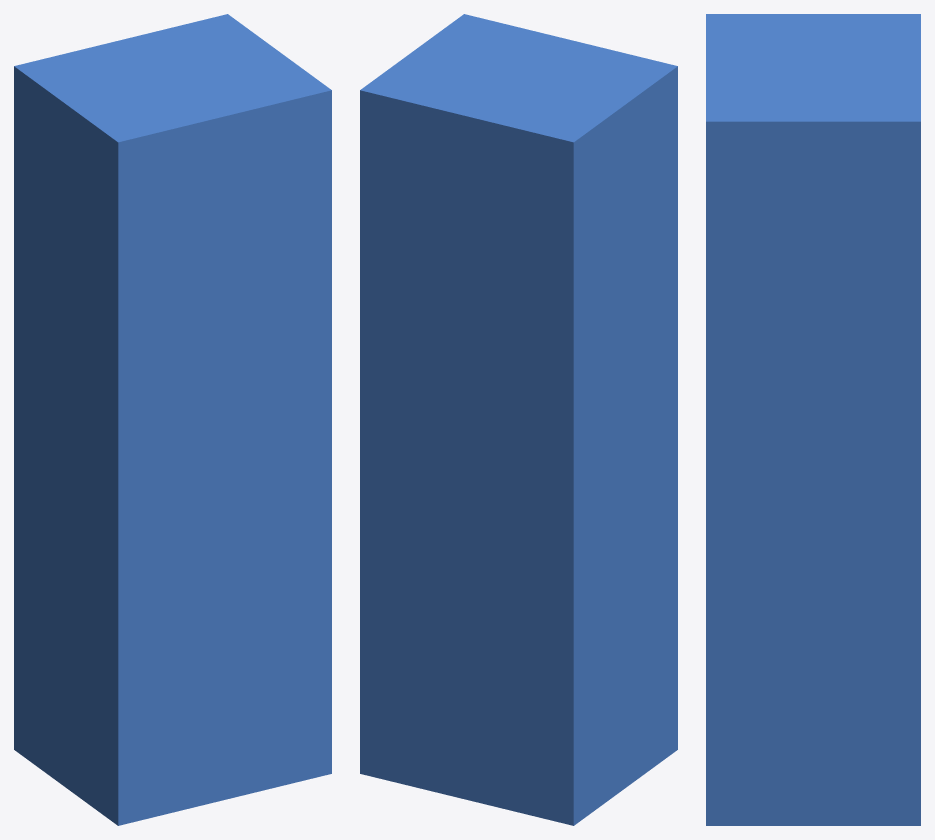
File: SciFi_fire_extinguisher.DAE
The picture shows the model from 3 angles, left to right: view 1: azimuth 30°, elevation 25°; view 2: azimuth 150°, elevation 25°; view 3: azimuth 270°, elevation 25°; orthographic projection. The views are drawn at different scales.
Parts seen in each view (by area): view 1: bounds; view 2: bounds; view 3: bounds.
Part boxes in pixels (x1=…): bounds: x1=14, y1=14, x2=331, y2=825; bounds: x1=360, y1=14, x2=677, y2=825; bounds: x1=706, y1=14, x2=920, y2=825.
Size of the model in its own units: 44.85 by 37.84 by 137.
